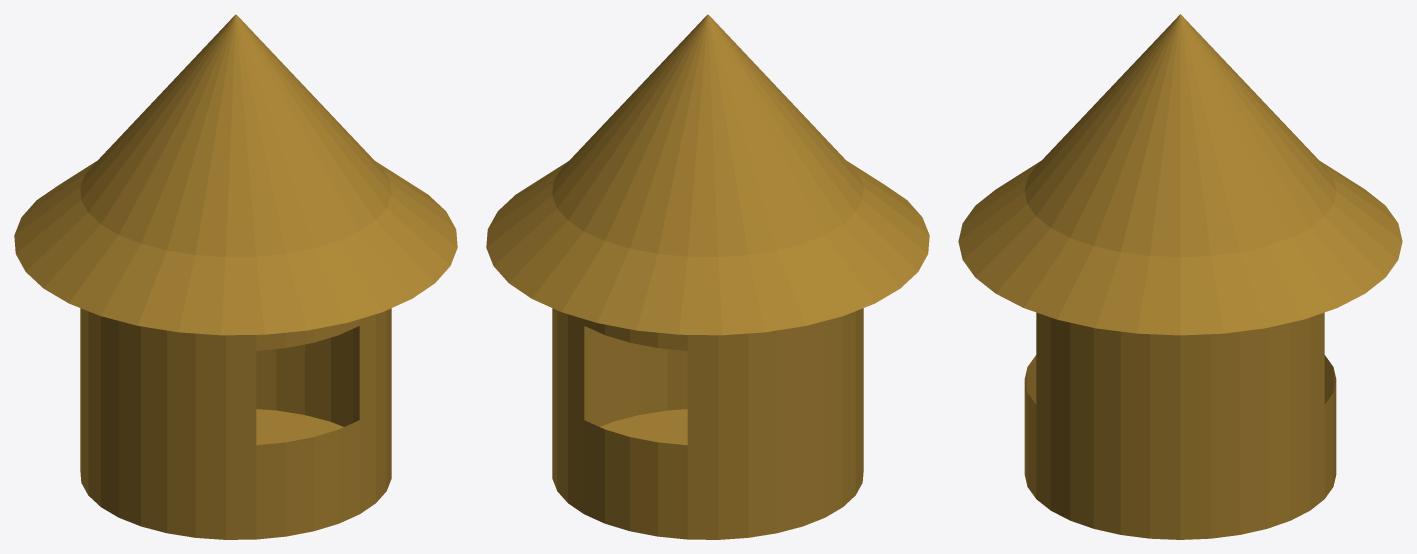
File: Circular House.dae
3 renders of one model, left to right at view 1: azimuth 30°, elevation 25°; view 2: azimuth 150°, elevation 25°; view 3: azimuth 270°, elevation 25°, orthographic.
Parts seen in each view (by area): view 1: Cylinder; view 2: Cylinder; view 3: Cylinder.
Part boxes in pixels (x1,y1,x2,y2): Cylinder: (14,14,457,539); Cylinder: (486,14,929,539); Cylinder: (958,14,1402,539).
Size of what is drawn, in the model's own units: 2.85 by 2.85 by 3.25.
